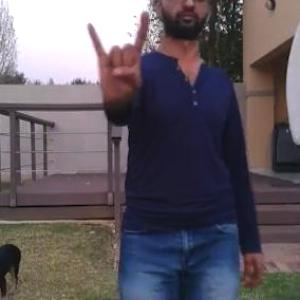takeoff-hand: (80, 4, 153, 107)
